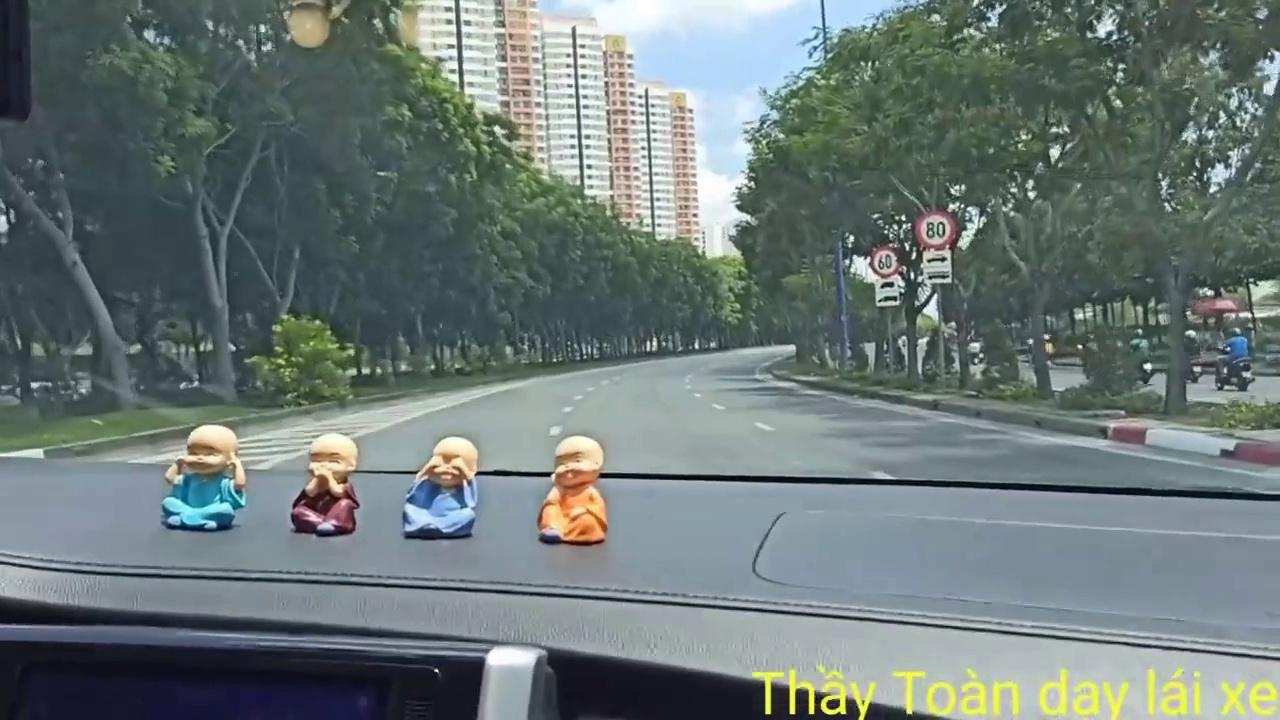Biển phụ: (923, 250, 953, 284), (876, 279, 900, 307)
GIơi hạn tốc độ 60Km/h: (869, 246, 899, 278)
Giới hạn tốc độ 80Km/h: (916, 211, 956, 249)
